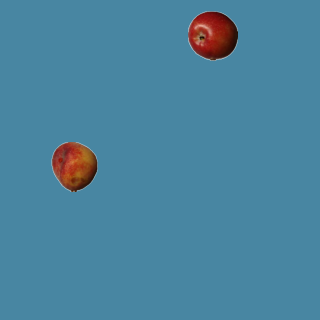Apple Braeburn: (187, 10, 237, 60)
Peach: (49, 141, 99, 191)
